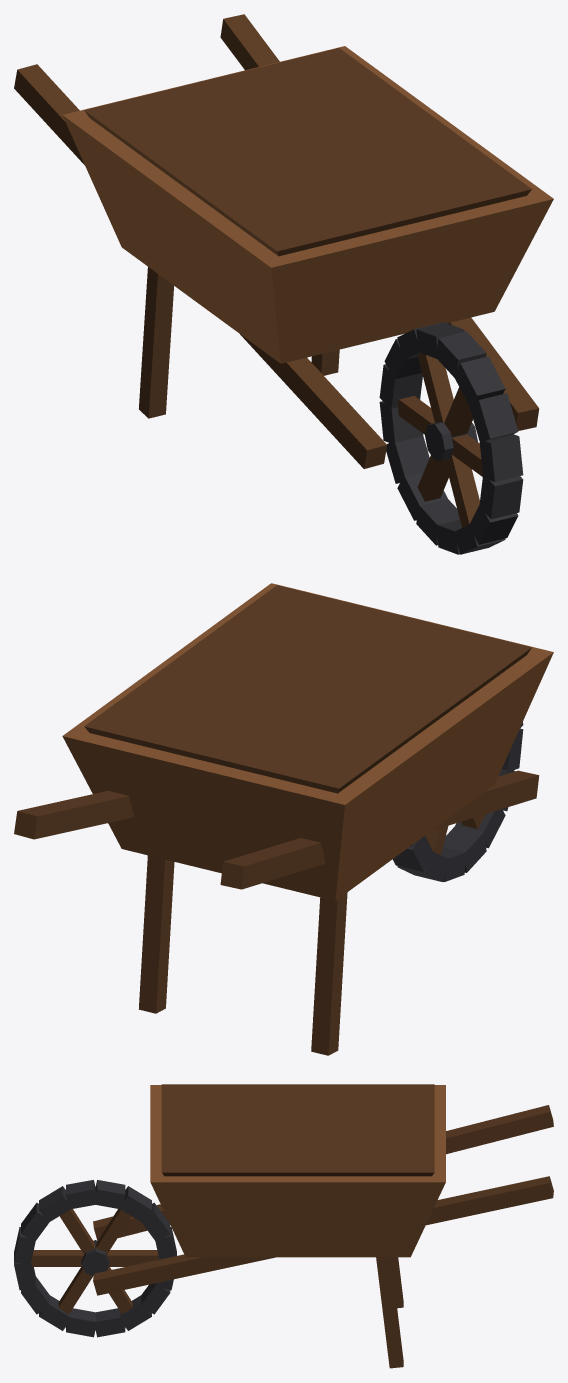
File: Wheelbarrow.fbx
3 renders of one model, top to bottom at view 1: azimuth 30°, elevation 25°; view 2: azimuth 150°, elevation 25°; view 3: azimuth 270°, elevation 25°, orthographic. The views are drawn at different scales.
Visible parts, largest first — view 1: Wheelbarrow; view 2: Wheelbarrow; view 3: Wheelbarrow.
Boxes of the visible parts, x1,y1,x2,y2 form: Wheelbarrow: (14, 14, 553, 554); Wheelbarrow: (14, 583, 553, 1055); Wheelbarrow: (14, 1084, 553, 1368).
Bounding box in the file's own units: 0.82 × 0.8128 × 1.92.
